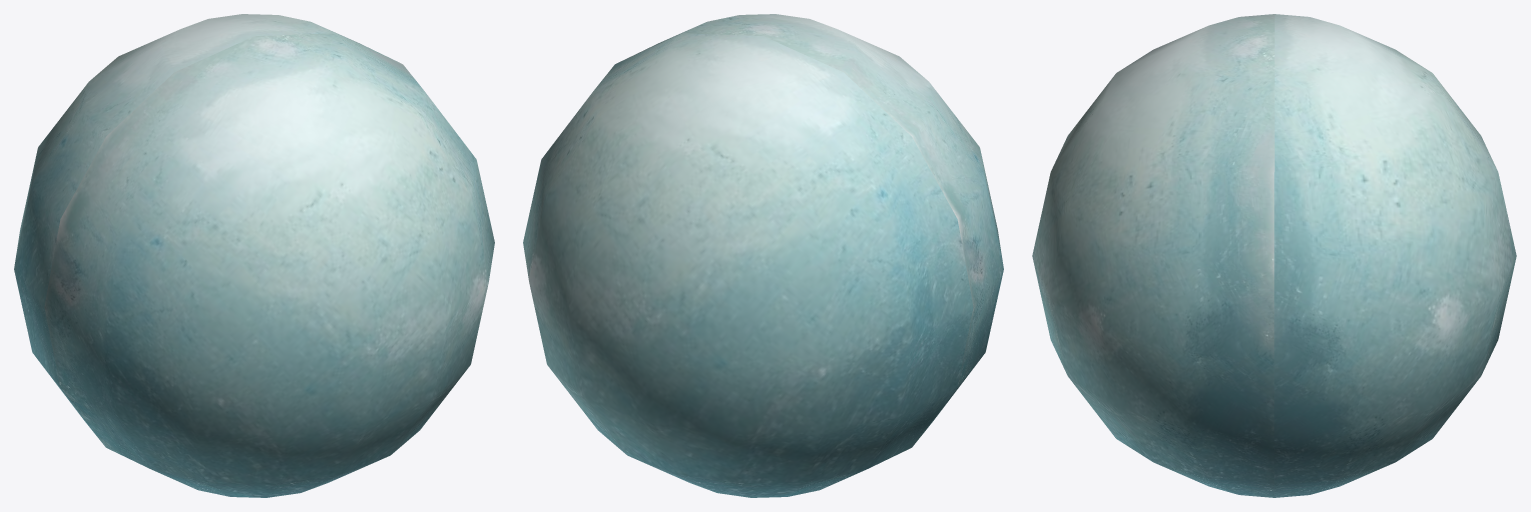
The model's file is yogurt.obj.
3 renders of one model, left to right at view 1: azimuth 30°, elevation 25°; view 2: azimuth 150°, elevation 25°; view 3: azimuth 270°, elevation 25°, orthographic.
Visible parts, largest first — view 1: esfera; view 2: esfera; view 3: esfera.
Boxes of the visible parts, box(x1,y1,x2,y2) form: esfera: box(14, 14, 494, 497); esfera: box(523, 14, 1003, 497); esfera: box(1032, 14, 1516, 497).
Bounding box in the file's own units: 15.65 × 15.65 × 15.65.
Materials: 1 (1 with a texture image).
